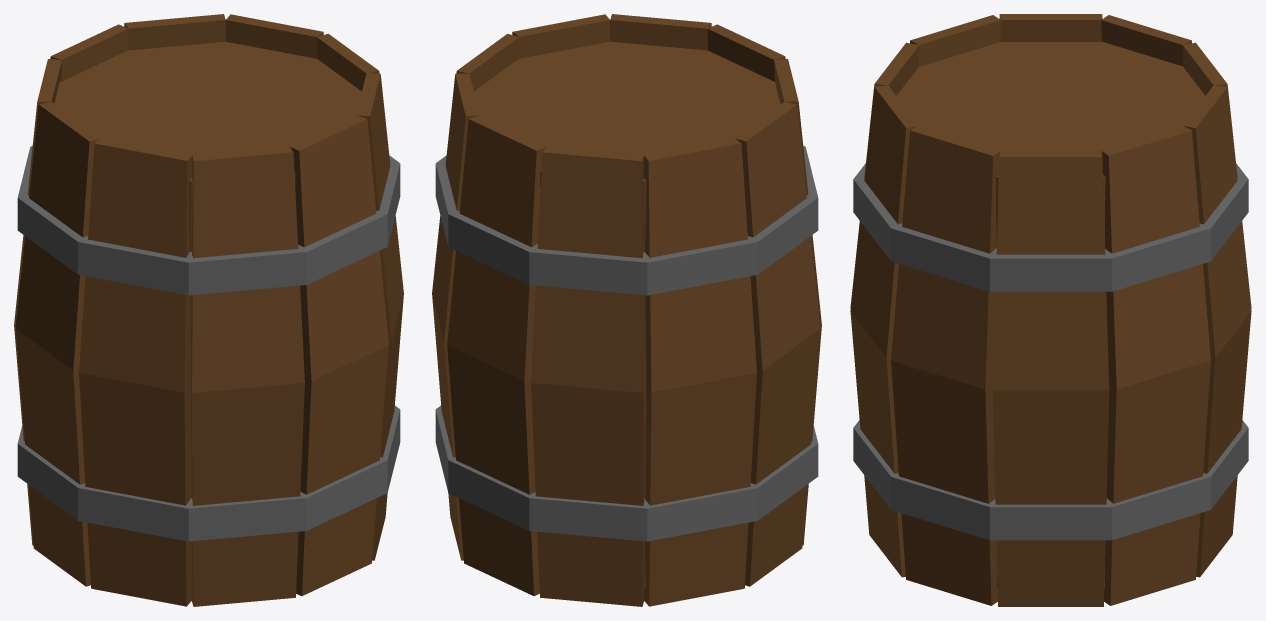
Rendered from Barrel.fbx.
3 renders of one model, left to right at view 1: azimuth 30°, elevation 25°; view 2: azimuth 150°, elevation 25°; view 3: azimuth 270°, elevation 25°, orthographic.
Parts seen in each view (by area): view 1: tonneau; view 2: tonneau; view 3: tonneau.
Boxes of the visible parts, left/top/right/bottom form: tonneau: left=14, top=14, right=403, bottom=606; tonneau: left=432, top=14, right=821, bottom=606; tonneau: left=850, top=14, right=1251, bottom=606.
Size of the model in its own units: 47.32 by 60.96 by 49.45.
